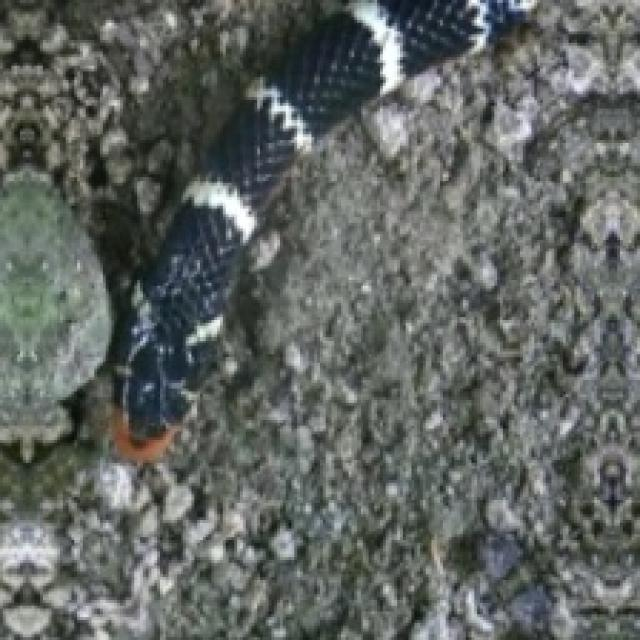barredcoral snake: (111, 0, 529, 460)
